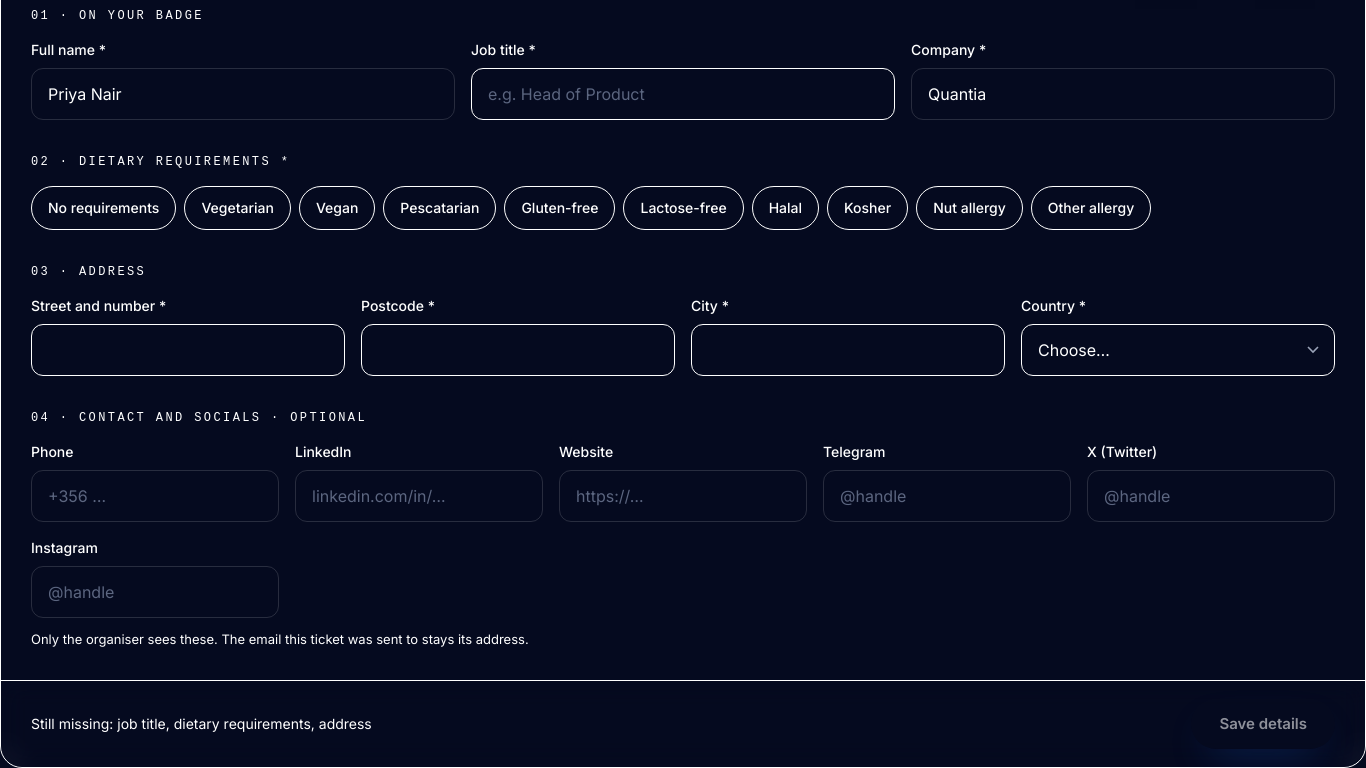
TicketDetailsForm › an invalid field is refused before sending: the error sits next to it and it gets the focus
(page scrolled)
Type "<call me>" into the field labelled "Phone".
click(155, 496); type("<call me>")  # box top-left (31, 470), bottom-right (279, 522)
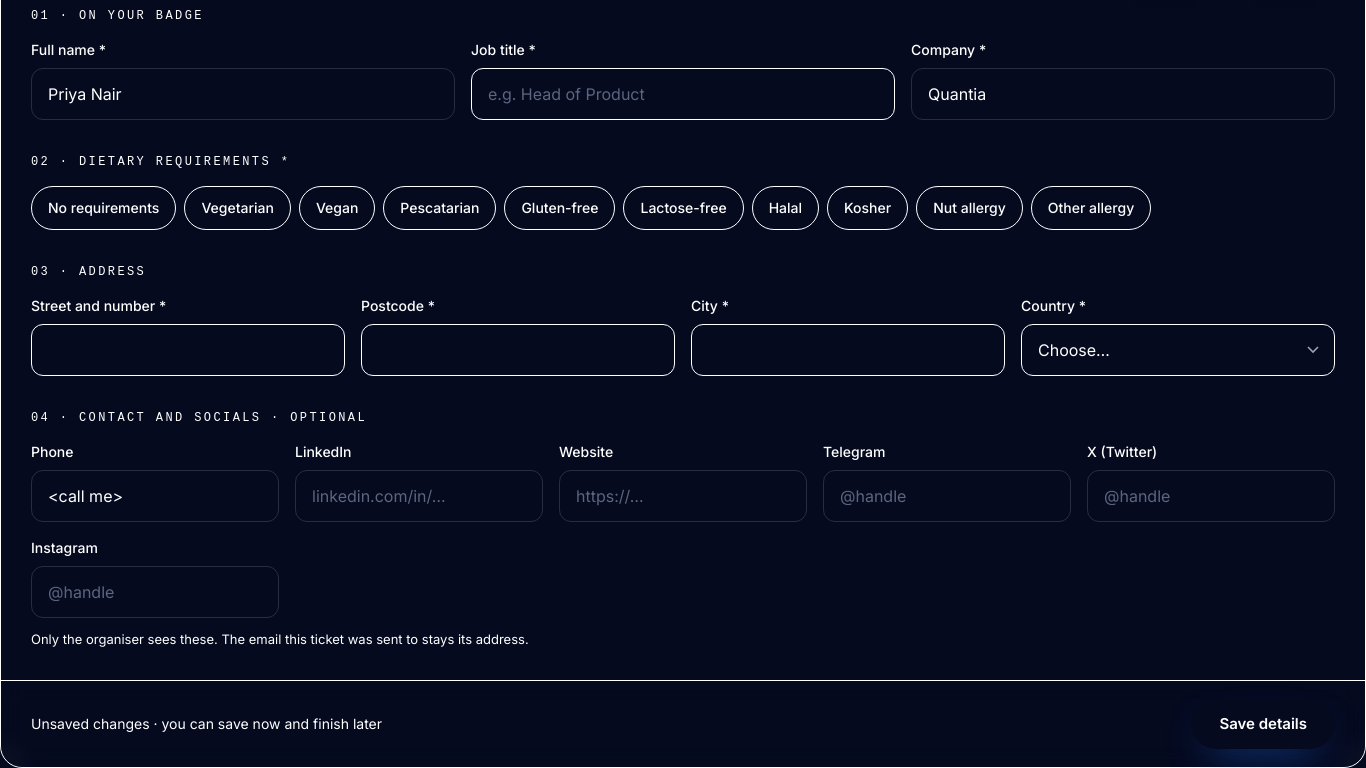
Click the button "Save details".
click(1263, 724)  # box top-left (1191, 699), bottom-right (1335, 749)
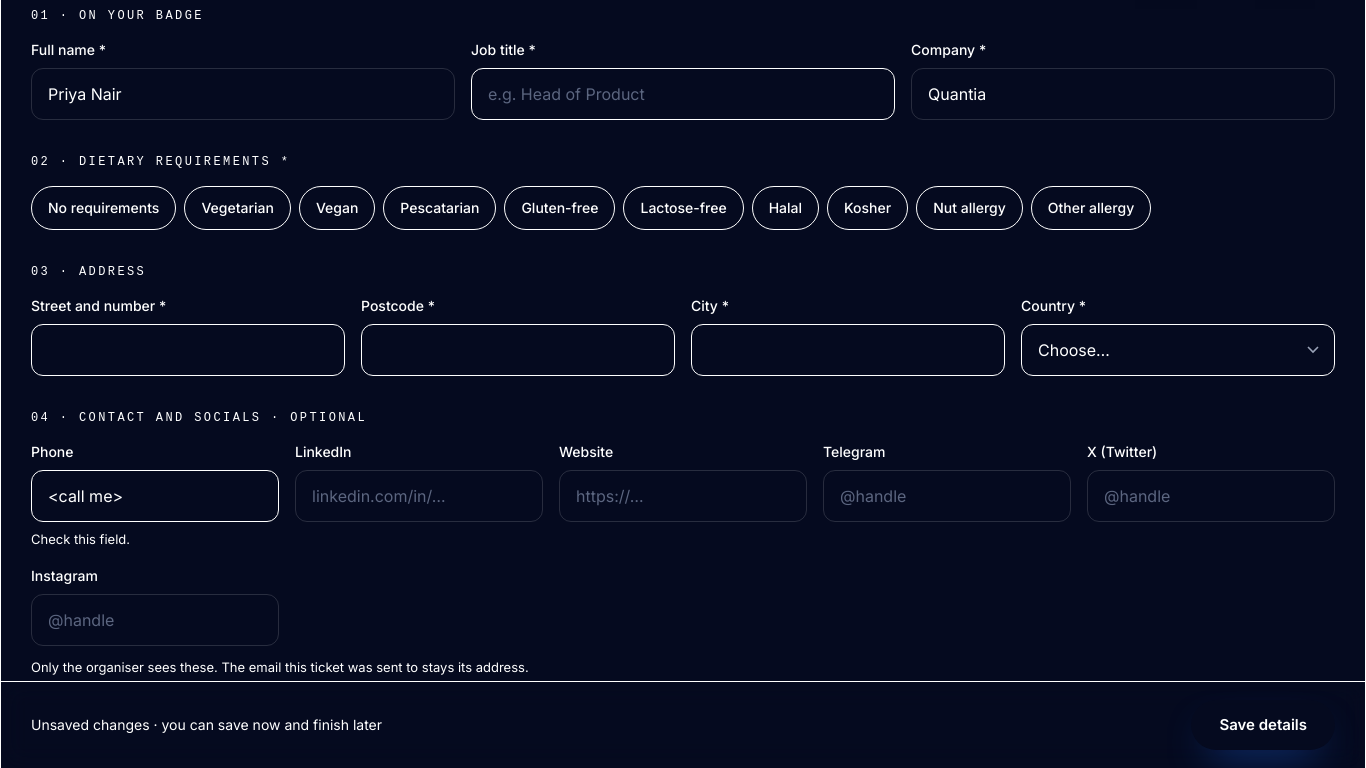
Expected: the text "Check this field." is shown, top-left (31, 531), bottom-right (130, 547)
